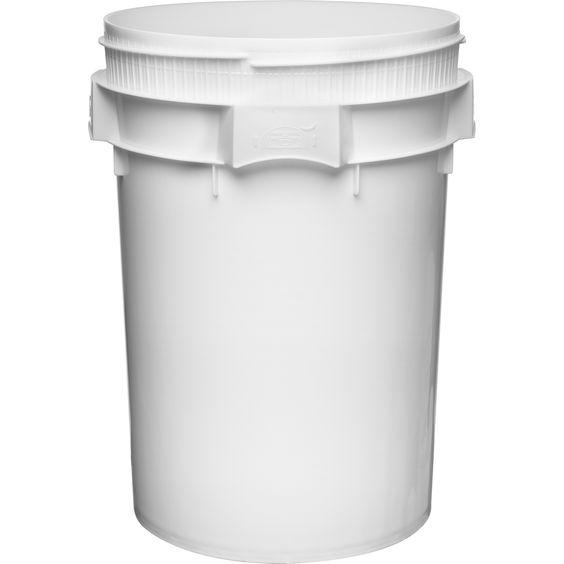PVC: (96, 16, 472, 557)
